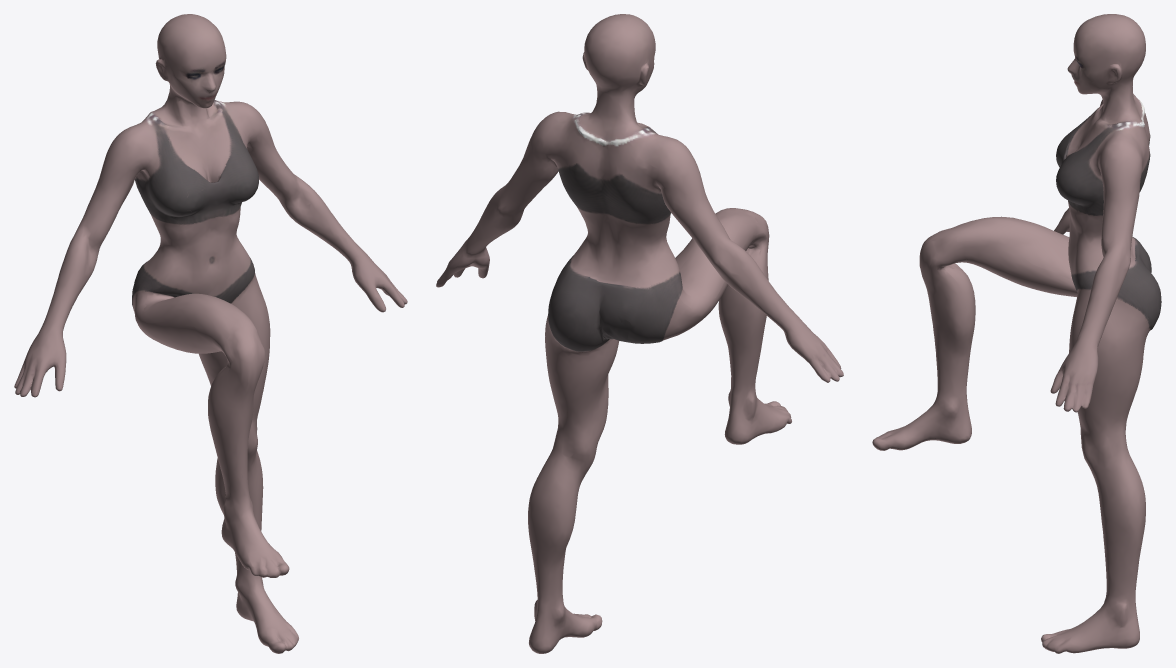
File: 22-ThighL-90-child90-twist10-baseline.glb
The picture shows the model from 3 angles, left to right: view 1: azimuth 30°, elevation 25°; view 2: azimuth 150°, elevation 25°; view 3: azimuth 270°, elevation 25°; orthographic projection. The views are drawn at different scales.
Parts seen in each view (by area): view 1: baseline; view 2: baseline; view 3: baseline.
Boxes of the visible parts, x1=… form: baseline: x1=14, y1=14, x2=407, y2=653; baseline: x1=436, y1=14, x2=843, y2=653; baseline: x1=872, y1=14, x2=1161, y2=653.
Bounding box in the file's own units: 0.6509 × 1 × 0.436.
1 material, 1 textured.
